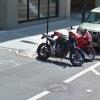Motorcycle: (33, 23, 100, 77)
